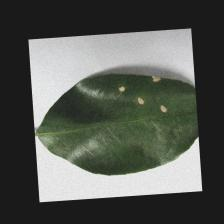canker: (114, 72, 169, 118)
